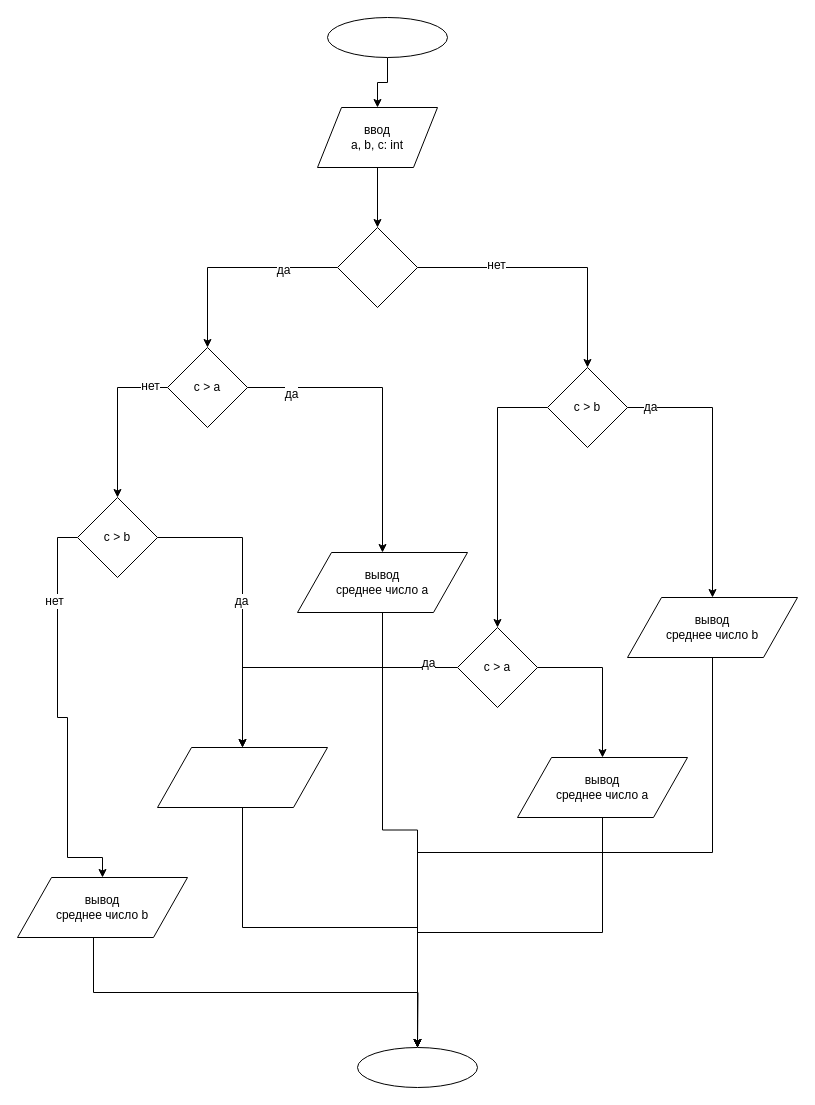
This 815x1105 diagram has some shape labels left out. The centre of each missing label's shape, as x and y in pixels:
"a > b" belongs at (377,267).
"вывод среднее число c" belongs at (242,777).
"конец" belongs at (417,1067).
"начало" belongs at (387,37).
